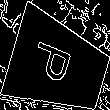P_E: (33, 40, 83, 91)
